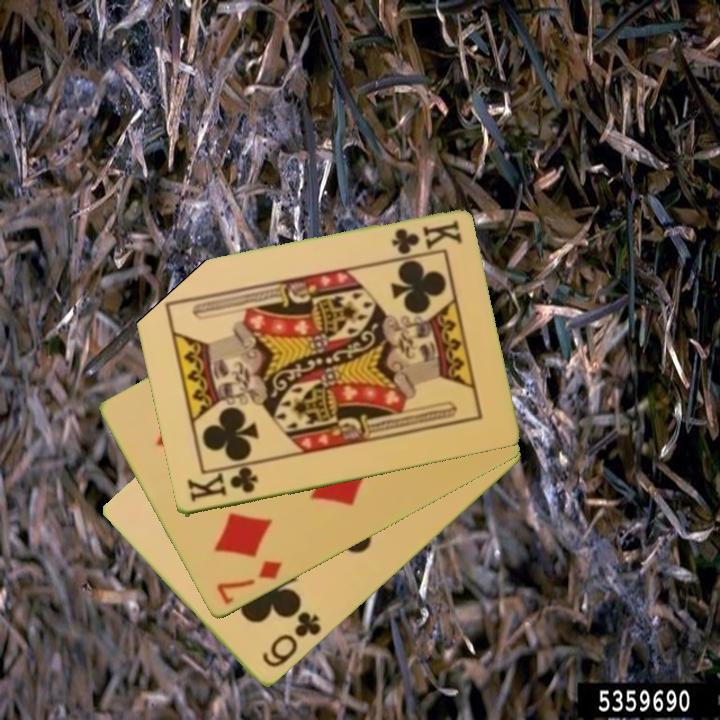6c: (258, 608, 325, 672)
7d: (213, 557, 285, 608)
Kc: (184, 464, 261, 506), (387, 217, 464, 257)
